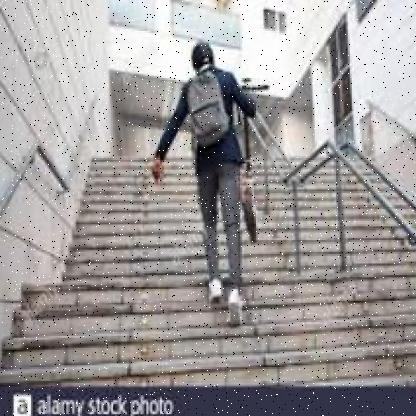stair_up: (13, 226, 416, 396)
